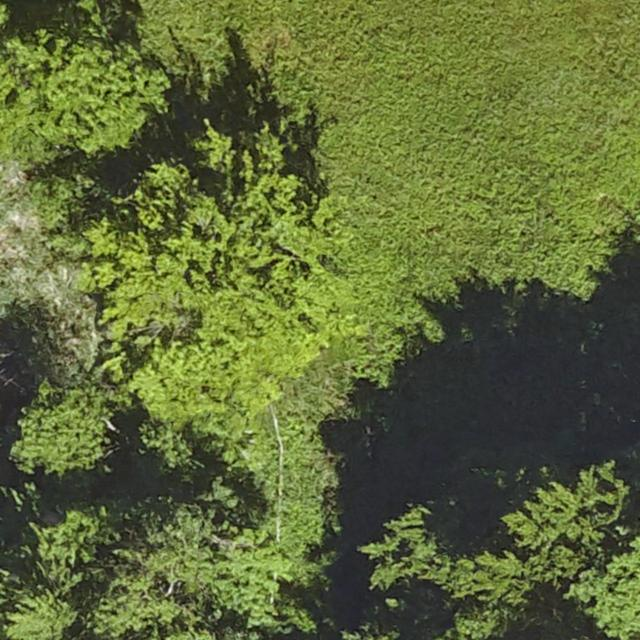tree: (99, 134, 341, 433), (374, 438, 640, 640), (0, 499, 287, 640), (0, 30, 163, 186)
